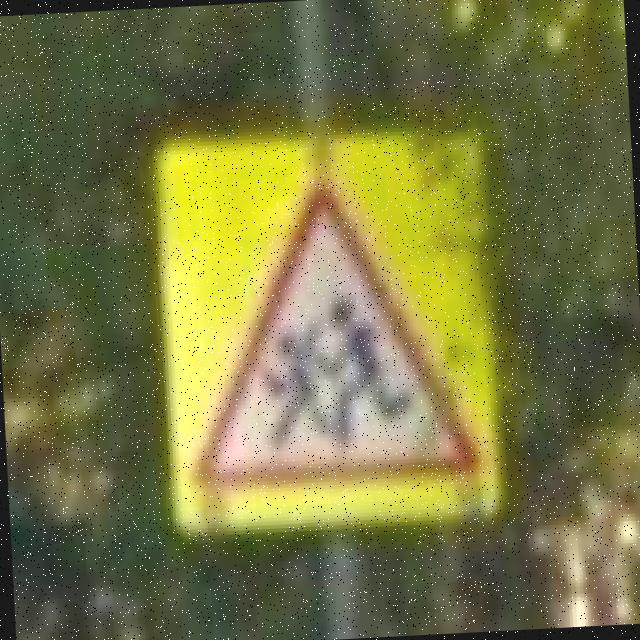Dzieci: (145, 120, 520, 552)
